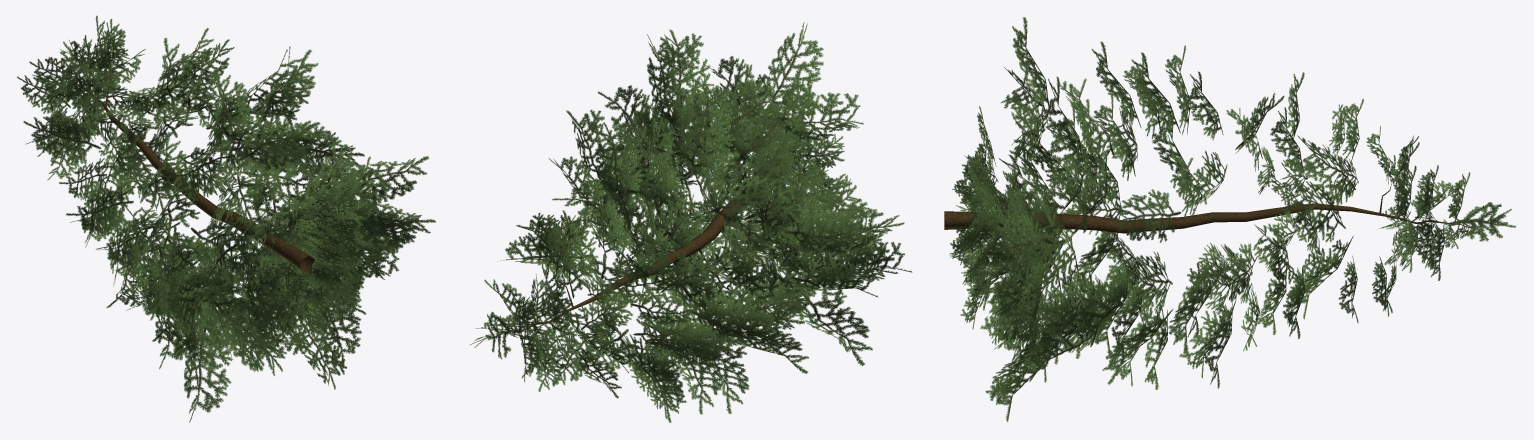
Rendered from birch_lod2.glb.
3 views of the same model, side by side, from view 1: azimuth 30°, elevation 25°; view 2: azimuth 150°, elevation 25°; view 3: azimuth 270°, elevation 25° (orthographic). The views are drawn at different scales.
Visible parts, largest first — view 1: Christmas tree_4_LOD2; view 2: Christmas tree_4_LOD2; view 3: Christmas tree_4_LOD2.
Part boxes in pixels (x1,y1,x2,y2): Christmas tree_4_LOD2: (17,15,435,422); Christmas tree_4_LOD2: (469,22,912,422); Christmas tree_4_LOD2: (944,17,1516,422).
Bounding box in the file's own units: 3.15 × 3.09 × 4.45.
Materials: 2 (2 with a texture image).
